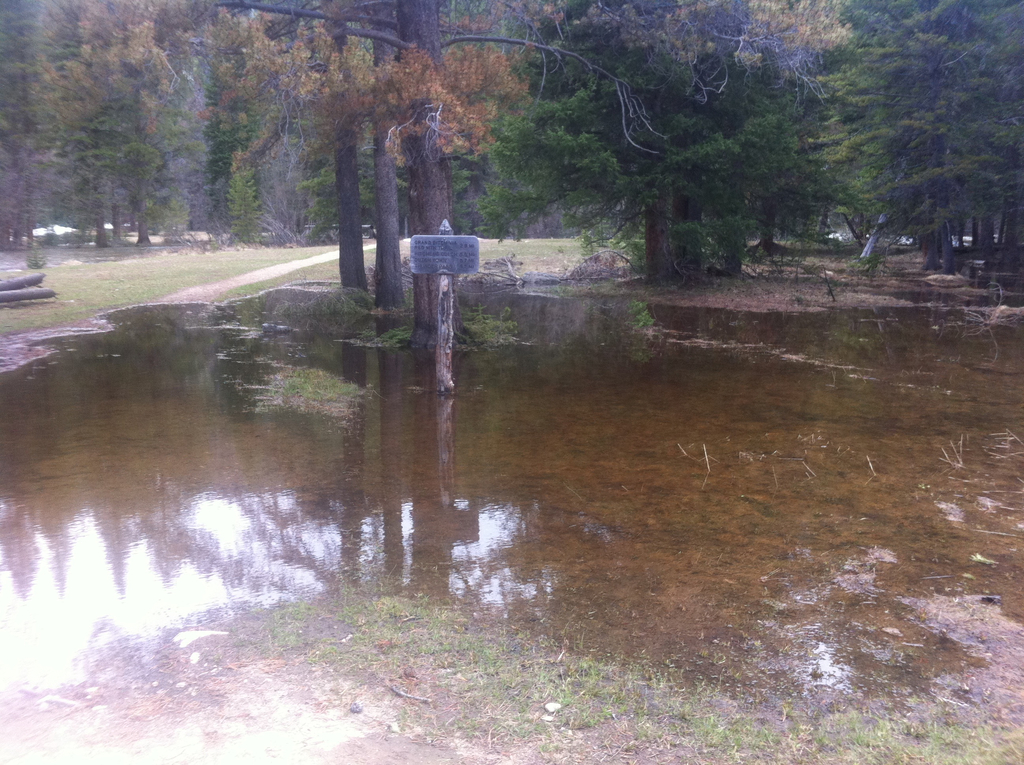Tree: (0, 0, 1023, 393)
